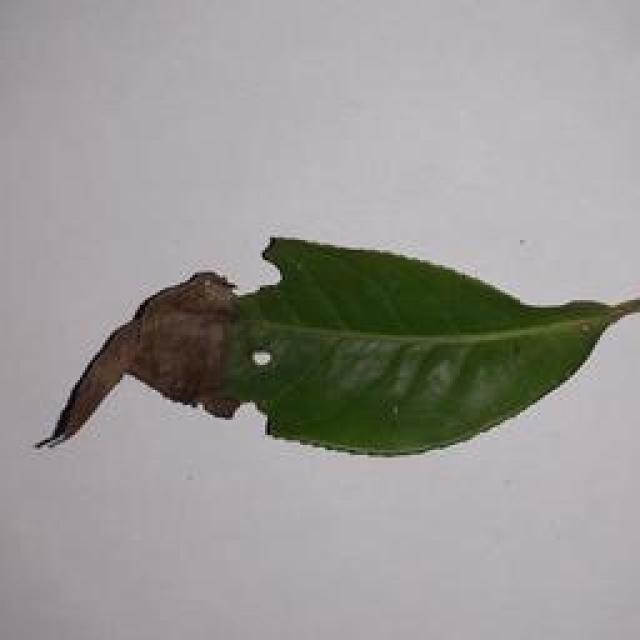Brown Blight: (25, 219, 640, 474)
